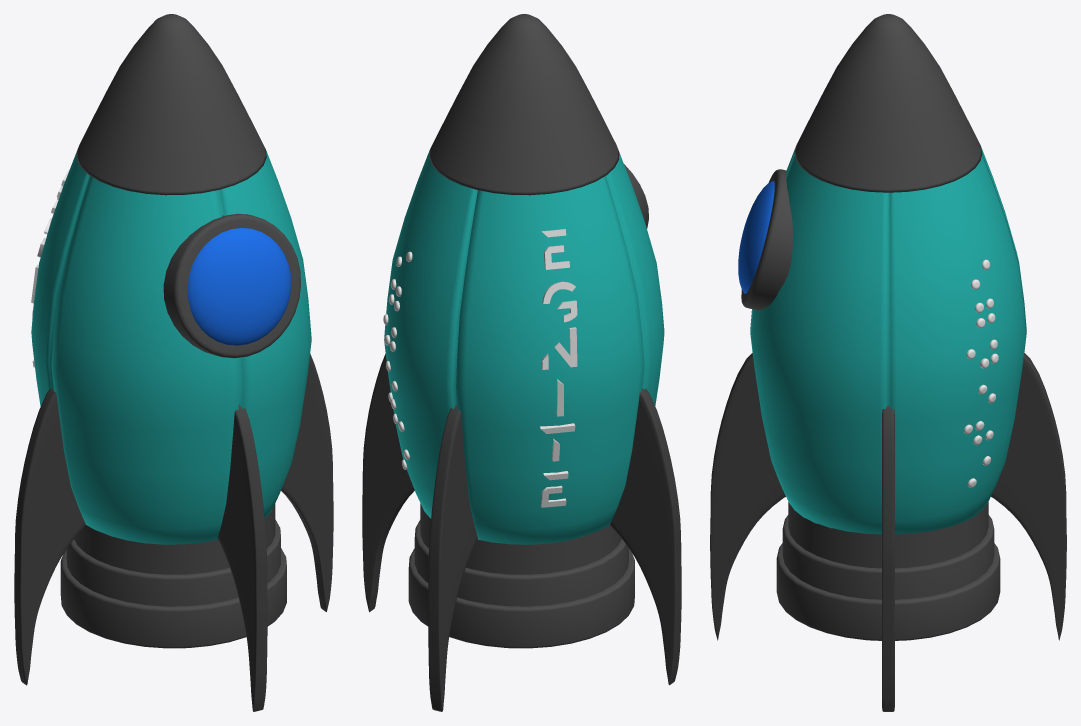
Rendered from Rocketv2.glb.
The picture shows the model from 3 angles, left to right: view 1: azimuth 30°, elevation 25°; view 2: azimuth 150°, elevation 25°; view 3: azimuth 270°, elevation 25°; orthographic projection.
Parts seen in each view (by area): view 1: Body, Wings, Tip, Engine, Window.001, Window; view 2: Body, Wings, Tip, Engine, Logo_Letter_2, Logo_Letter_3, Logo_Letter_6, Logo_Letter_1; view 3: Body, Wings, Tip, Engine, Window, Window.001.
Part boxes in pixels (box(x1,y1,x2,y2)): Body: box(31, 150, 311, 544); Wings: box(14, 354, 333, 711); Tip: box(76, 14, 266, 195); Engine: box(60, 504, 286, 648); Window.001: box(187, 228, 291, 345); Window: box(163, 213, 300, 358); Body: box(384, 150, 664, 544); Wings: box(362, 354, 681, 711); Tip: box(429, 14, 619, 195); Engine: box(408, 503, 634, 648); Logo_Letter_2: box(542, 281, 577, 322); Logo_Letter_3: box(541, 327, 577, 369); Logo_Letter_6: box(540, 471, 568, 507); Logo_Letter_1: box(541, 229, 569, 269); Body: box(750, 147, 1026, 534); Wings: box(710, 353, 1066, 711); Tip: box(794, 14, 982, 192); Engine: box(776, 502, 1000, 640); Window: box(741, 169, 792, 310); Window.001: box(738, 181, 774, 293).
Bounding box in the file's own units: 1.63 × 3.12 × 1.63.
